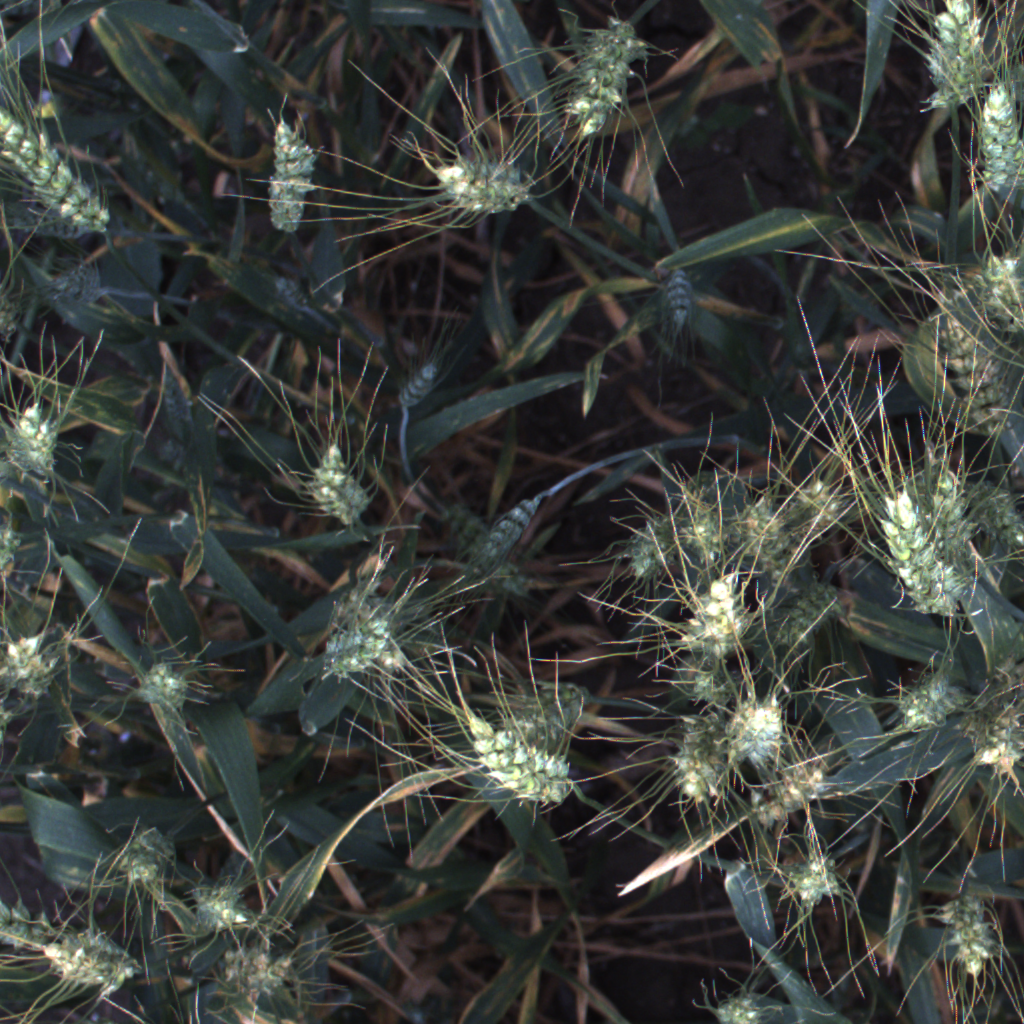wheat_head: (0, 106, 118, 239), (870, 487, 973, 621), (458, 710, 582, 813), (923, 295, 1014, 435), (24, 906, 154, 1002), (559, 9, 647, 140), (451, 479, 551, 588), (909, 0, 993, 122), (307, 608, 422, 683), (0, 606, 76, 719), (660, 710, 736, 822), (965, 68, 1024, 202), (263, 103, 321, 235), (935, 885, 1008, 985), (752, 751, 836, 831), (303, 439, 371, 530), (771, 574, 849, 653), (681, 570, 748, 661), (719, 691, 792, 773), (186, 870, 273, 938), (435, 158, 530, 220), (889, 664, 973, 729), (965, 239, 1021, 334), (217, 944, 300, 1006), (924, 463, 979, 556), (785, 845, 852, 920), (605, 513, 673, 585), (970, 695, 1024, 781), (704, 973, 790, 1024), (779, 475, 846, 540), (106, 834, 176, 895), (673, 497, 733, 566), (383, 350, 448, 410), (19, 414, 74, 481), (1, 391, 48, 469), (967, 489, 1024, 546), (736, 502, 790, 555), (659, 265, 703, 321), (133, 663, 182, 712), (685, 667, 740, 705)
